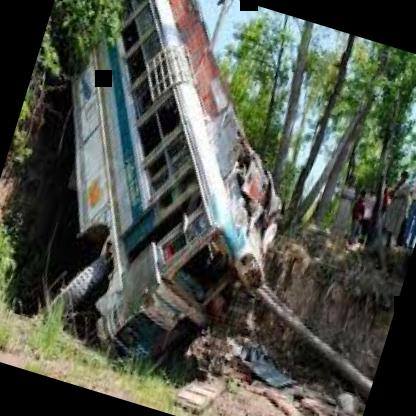accident: (3, 0, 346, 400)
